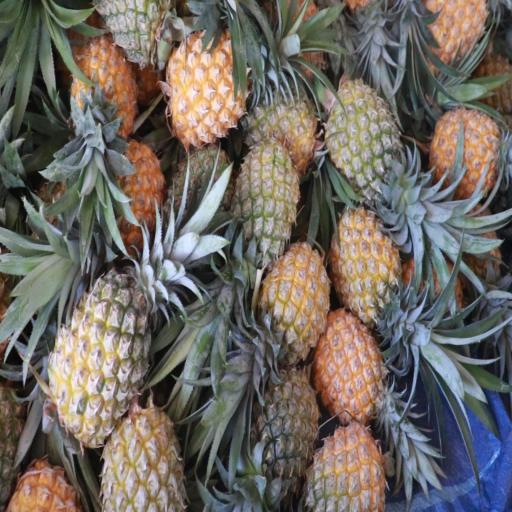------------------------------: (52, 272, 150, 437), (102, 403, 184, 512), (248, 68, 319, 163)
Pineapple - v8 v1: (165, 34, 251, 138), (328, 209, 402, 324), (316, 314, 384, 426), (431, 101, 505, 199), (264, 246, 329, 353), (71, 34, 136, 138), (420, 0, 494, 76), (108, 137, 164, 236)
